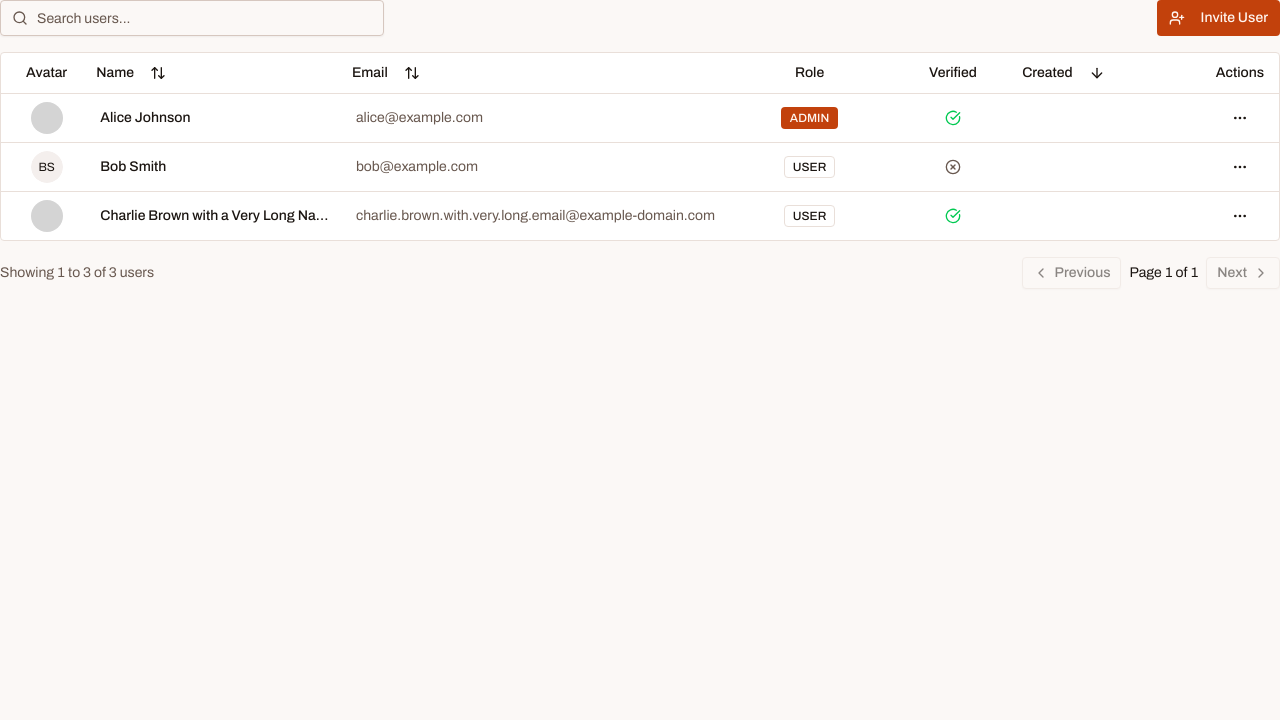
Test: components/admin/user-table › user actions › should cancel user deletion
The image size is (1280, 720).
# Open delete dialog for second user (Bob, non-admin)
Step 1. Click the button named "open menu" in the row of "BS" → (1240, 166), box x1=1224 y1=150 x2=1256 y2=182
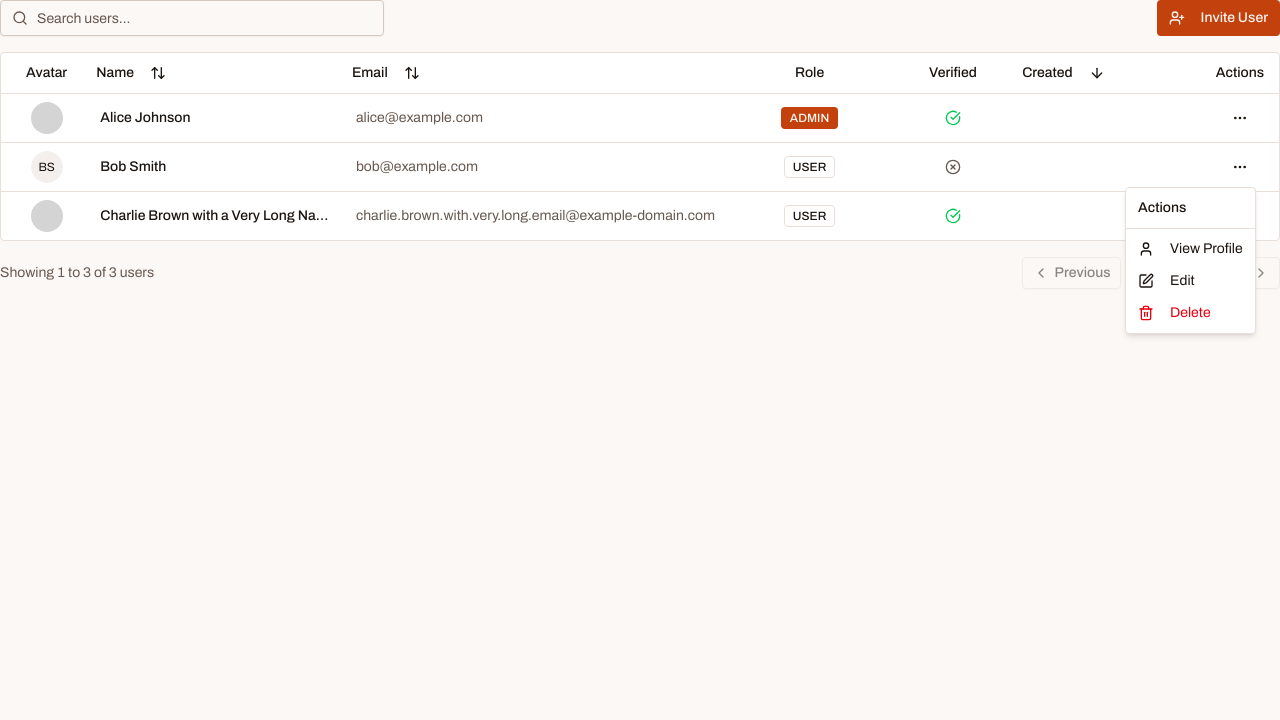
Step 2. Click the menu item "Delete" → (1174, 313), box x1=1138 y1=305 x2=1211 y2=321
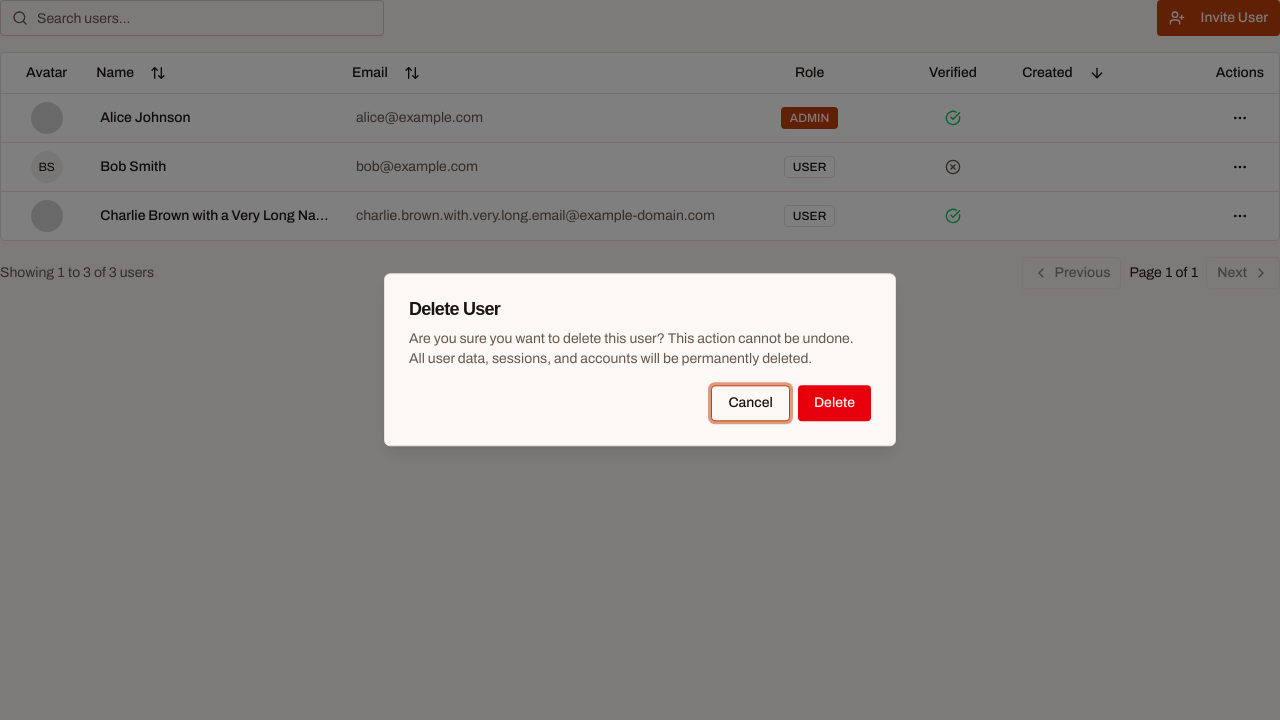
# Act: Cancel
Step 3. Click the button "Cancel" → (751, 404), box x1=712 y1=386 x2=790 y2=422
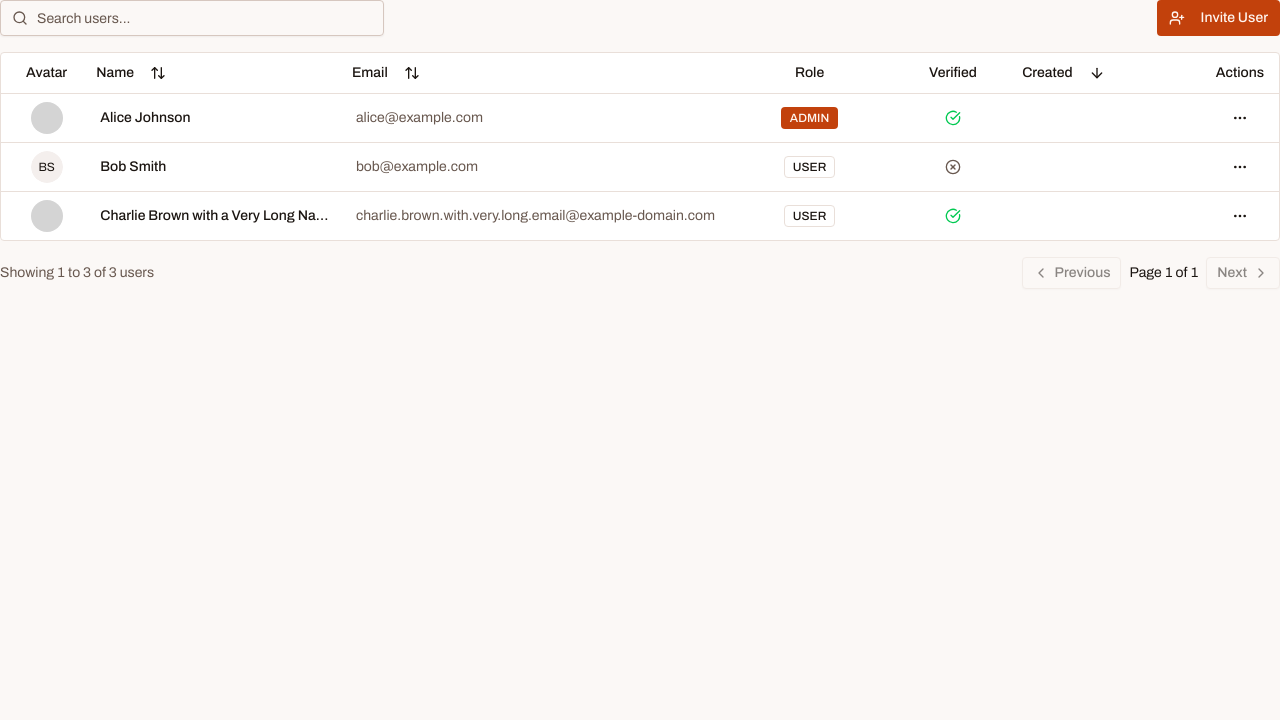
Expected: the heading "Delete User" is gone
